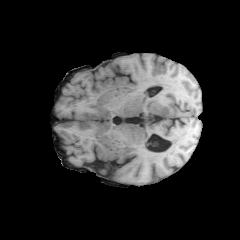glioma: (142, 79, 171, 116)
